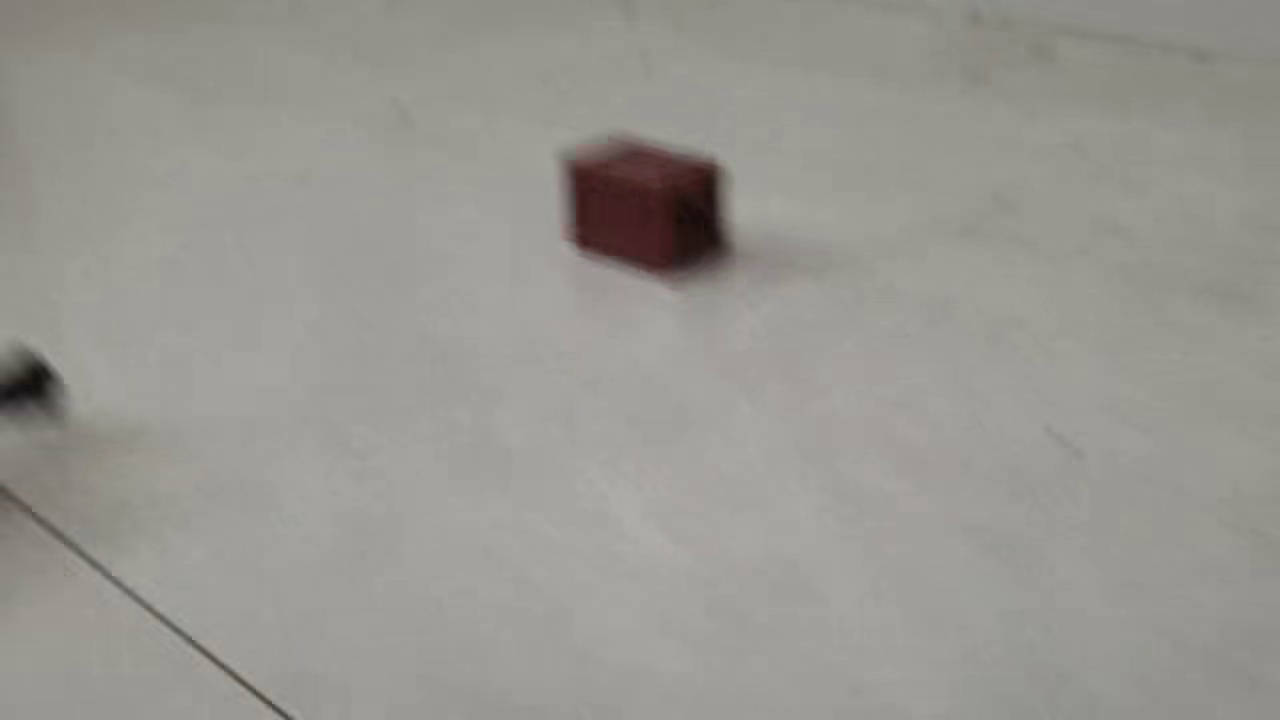box: (562, 136, 729, 274)
